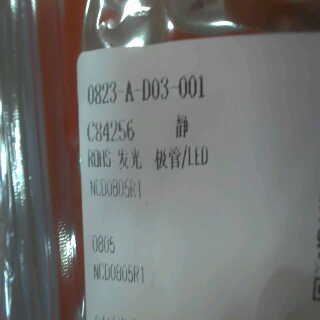LED: (114, 143, 215, 168)
